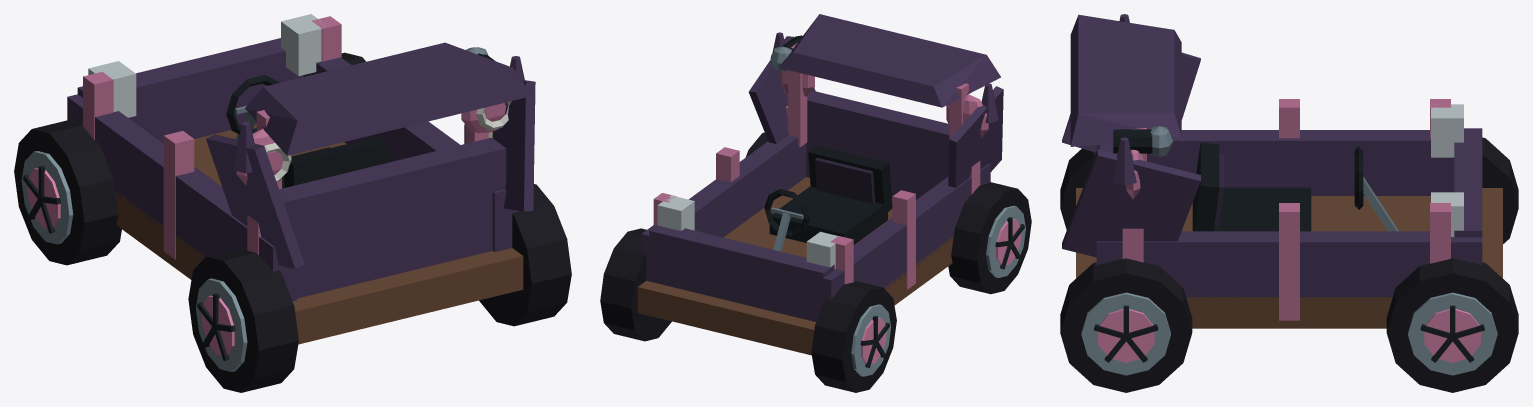
Rendered from kart.glb.
3 views of the same model, side by side, from view 1: azimuth 30°, elevation 25°; view 2: azimuth 150°, elevation 25°; view 3: azimuth 270°, elevation 25° (orthographic). The views are drawn at different scales.
Visible parts, largest first — view 1: identity-carriage-carriage-timber-coach, wheel-rear-left, wheel-front-left, identity-carriage-motif-bat-fins, wheel-rear-right, identity-carriage-driver-cockpit, identity-carriage-motif-sweets; view 2: identity-carriage-carriage-timber-coach, identity-carriage-driver-cockpit, wheel-front-left, wheel-rear-left, identity-carriage-motif-bat-fins, wheel-front-right, identity-carriage-motif-sweets, identity-carriage-motif-microphone; view 3: identity-carriage-carriage-timber-coach, wheel-front-right, wheel-rear-right, identity-carriage-motif-bat-fins, identity-carriage-driver-cockpit, wheel-front-left, wheel-rear-left, identity-carriage-motif-microphone.
Boxes of the visible parts, x1,y1,x2,y2 form: identity-carriage-carriage-timber-coach: (67,14,532,344); wheel-rear-left: (188,248,298,392); wheel-front-left: (14,120,121,265); identity-carriage-motif-bat-fins: (206,56,535,268); wheel-rear-right: (479,184,571,326); identity-carriage-driver-cockpit: (226,75,388,188); identity-carriage-motif-sweets: (236,101,511,185); identity-carriage-carriage-timber-coach: (637,14,1000,355); identity-carriage-driver-cockpit: (764,145,892,251); wheel-front-left: (811,281,896,392); wheel-rear-left: (948,182,1031,294); identity-carriage-motif-bat-fins: (748,32,1003,187); wheel-front-right: (600,228,671,341); identity-carriage-motif-sweets: (779,71,988,137); identity-carriage-motif-microphone: (770,35,802,71); identity-carriage-carriage-timber-coach: (1070,14,1502,328); wheel-front-right: (1386,258,1518,392); wheel-rear-right: (1060,258,1192,392); identity-carriage-motif-bat-fins: (1062,14,1200,257); identity-carriage-driver-cockpit: (1192,142,1398,231); wheel-front-left: (1482,137,1518,243); wheel-rear-left: (1060,148,1096,229); identity-carriage-motif-microphone: (1113,126,1172,156).
Bounding box in the file's own units: 2.07 × 1.63 × 2.64.
